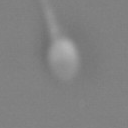normal: (39, 1, 61, 41)
